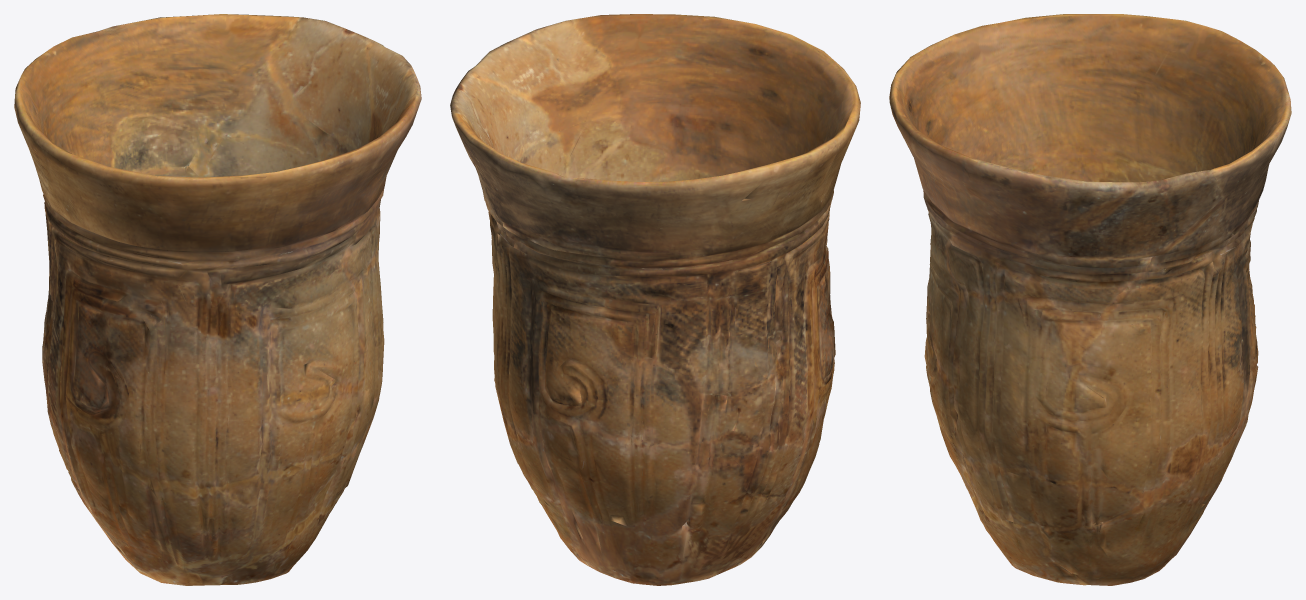
3 views of the same model, side by side, from view 1: azimuth 30°, elevation 25°; view 2: azimuth 150°, elevation 25°; view 3: azimuth 270°, elevation 25° (orthographic).
Visible parts, largest first — view 1: NM0010_low; view 2: NM0010_low; view 3: NM0010_low.
Part boxes in pixels (bbox=[...]): NM0010_low: bbox=[14, 14, 421, 585]; NM0010_low: bbox=[450, 14, 860, 585]; NM0010_low: bbox=[889, 14, 1291, 585].
Bounding box in the file's own units: 242 × 299 × 237.
1 material, 1 textured.
